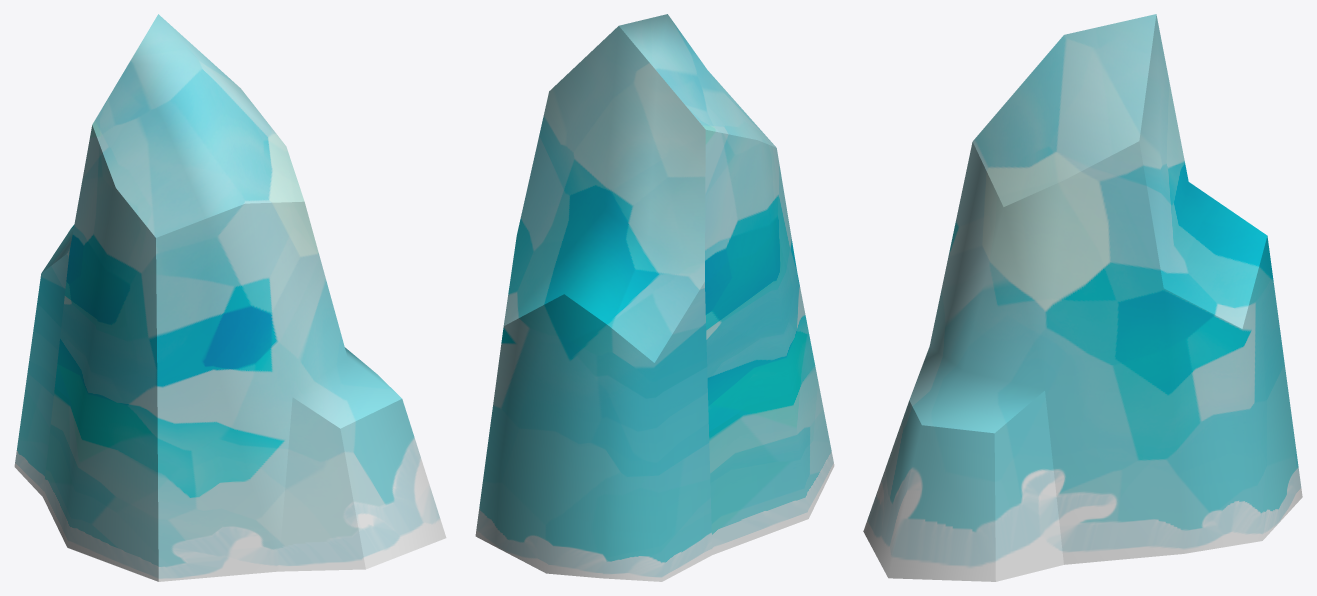
The model's file is env_ice_rocks_lg.fbx.
The picture shows the model from 3 angles, left to right: view 1: azimuth 30°, elevation 25°; view 2: azimuth 150°, elevation 25°; view 3: azimuth 270°, elevation 25°; orthographic projection. The views are drawn at different scales.
Parts seen in each view (by area): view 1: env_ice_rocks_lg_geo; view 2: env_ice_rocks_lg_geo; view 3: env_ice_rocks_lg_geo.
Boxes of the visible parts, x1=… form: env_ice_rocks_lg_geo: x1=14, y1=14, x2=446, y2=581; env_ice_rocks_lg_geo: x1=475, y1=14, x2=834, y2=581; env_ice_rocks_lg_geo: x1=863, y1=14, x2=1302, y2=581.
Size of the model in its own units: 331 by 491 by 404.
